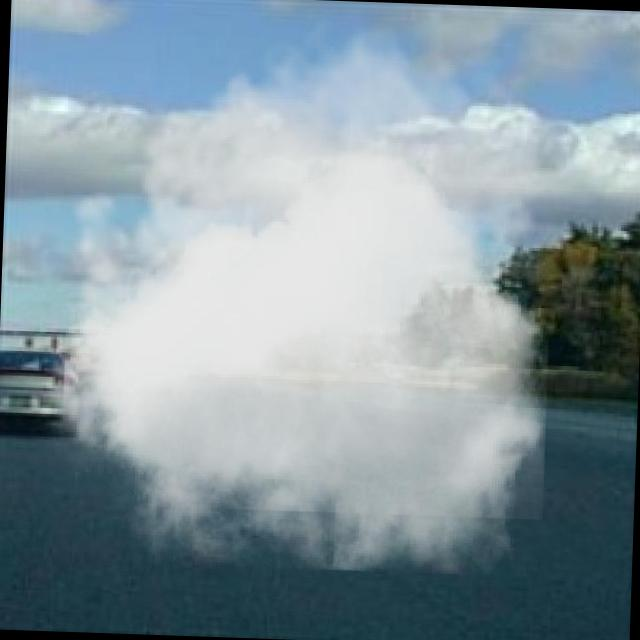Smoke: (25, 0, 560, 577)
